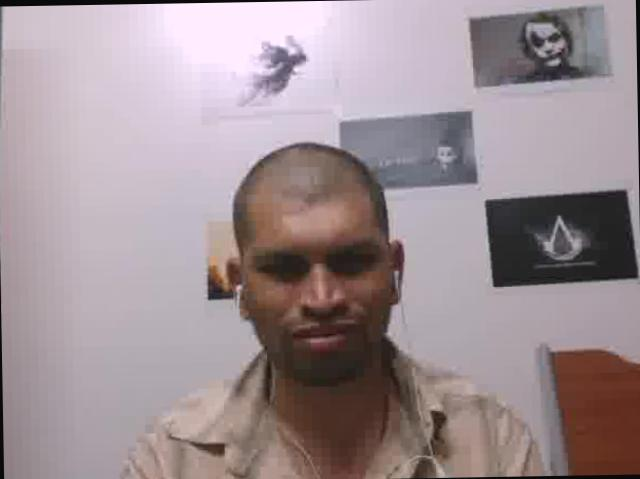bingung: (234, 189, 384, 372)
